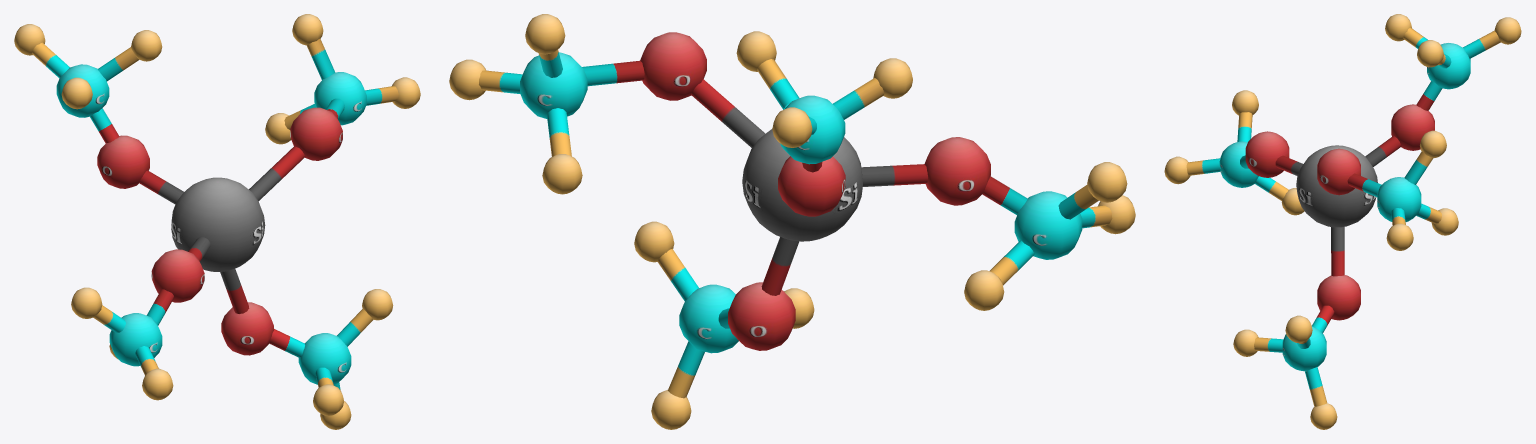
The model's file is SiO4.dae.
The picture shows the model from 3 angles, left to right: view 1: azimuth 30°, elevation 25°; view 2: azimuth 150°, elevation 25°; view 3: azimuth 270°, elevation 25°; orthographic projection. The views are drawn at different scales.
Parts seen in each view (by area): view 1: polySurface85; view 2: polySurface85; view 3: polySurface85.
Part boxes in pixels (x1,y1,x2,y2): polySurface85: [14, 14, 420, 429]; polySurface85: [449, 14, 1135, 429]; polySurface85: [1164, 14, 1521, 429].
Size of the model in its own units: 13.54 by 11.43 by 11.1.
1 material, 1 textured.
